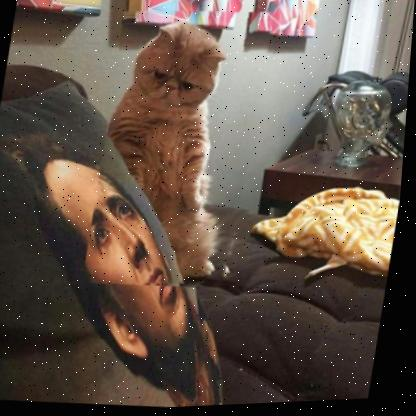cat: (81, 0, 283, 296)
